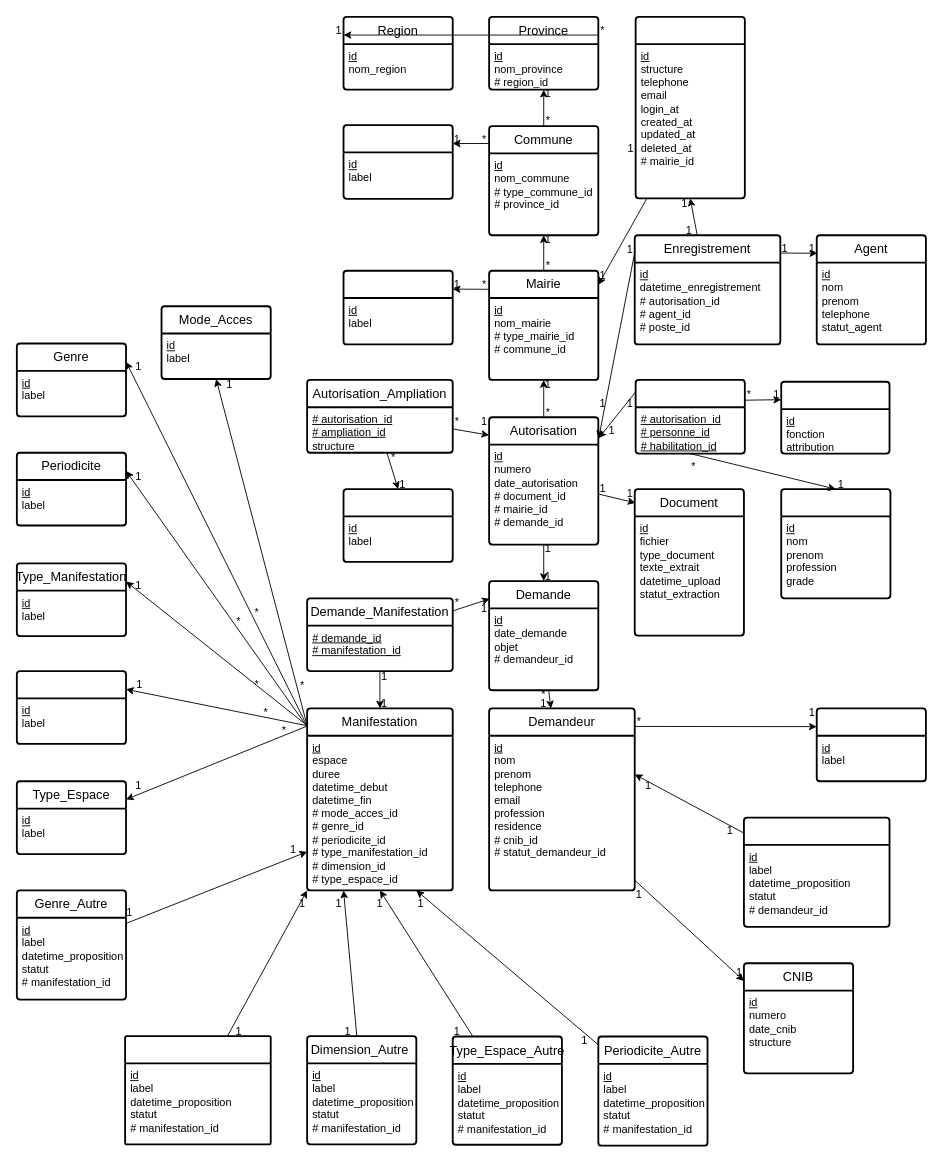
Image size: 942x1162. Some labels were removed from this diagram. Each missing label, with the box of its shape:
Ampliation: (342, 488, 453, 562)
Dimension: (15, 670, 126, 744)
Habilitation: (780, 380, 890, 454)
Personne: (780, 488, 891, 599)
Poste: (634, 15, 745, 199)
Signature: (634, 379, 745, 454)
Statut_Demandeur: (815, 707, 926, 782)
Statut_Demandeur_Autre: (743, 816, 890, 927)
Type_commune: (342, 124, 453, 199)
Type_mairie: (342, 269, 453, 345)
Type_Manifestation_Autre: (124, 1035, 271, 1145)
